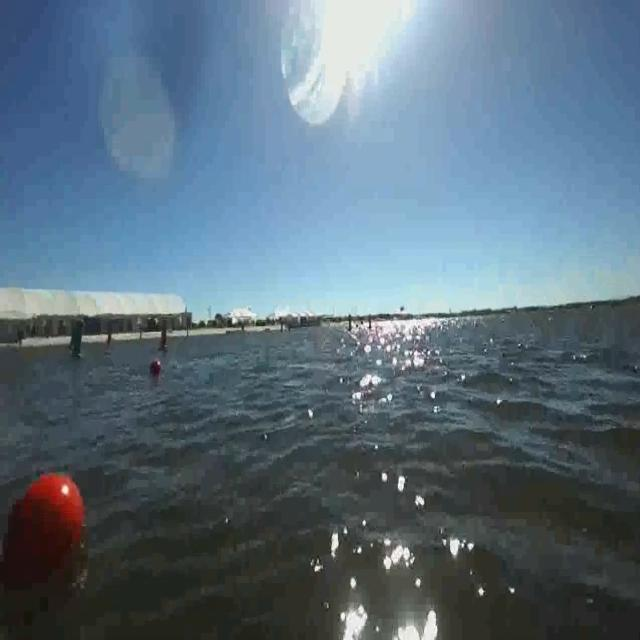green-column-buoy: (70, 326, 84, 361)
red-buoy: (3, 469, 83, 564), (150, 359, 160, 373)
red-column-buoy: (104, 324, 116, 355)
